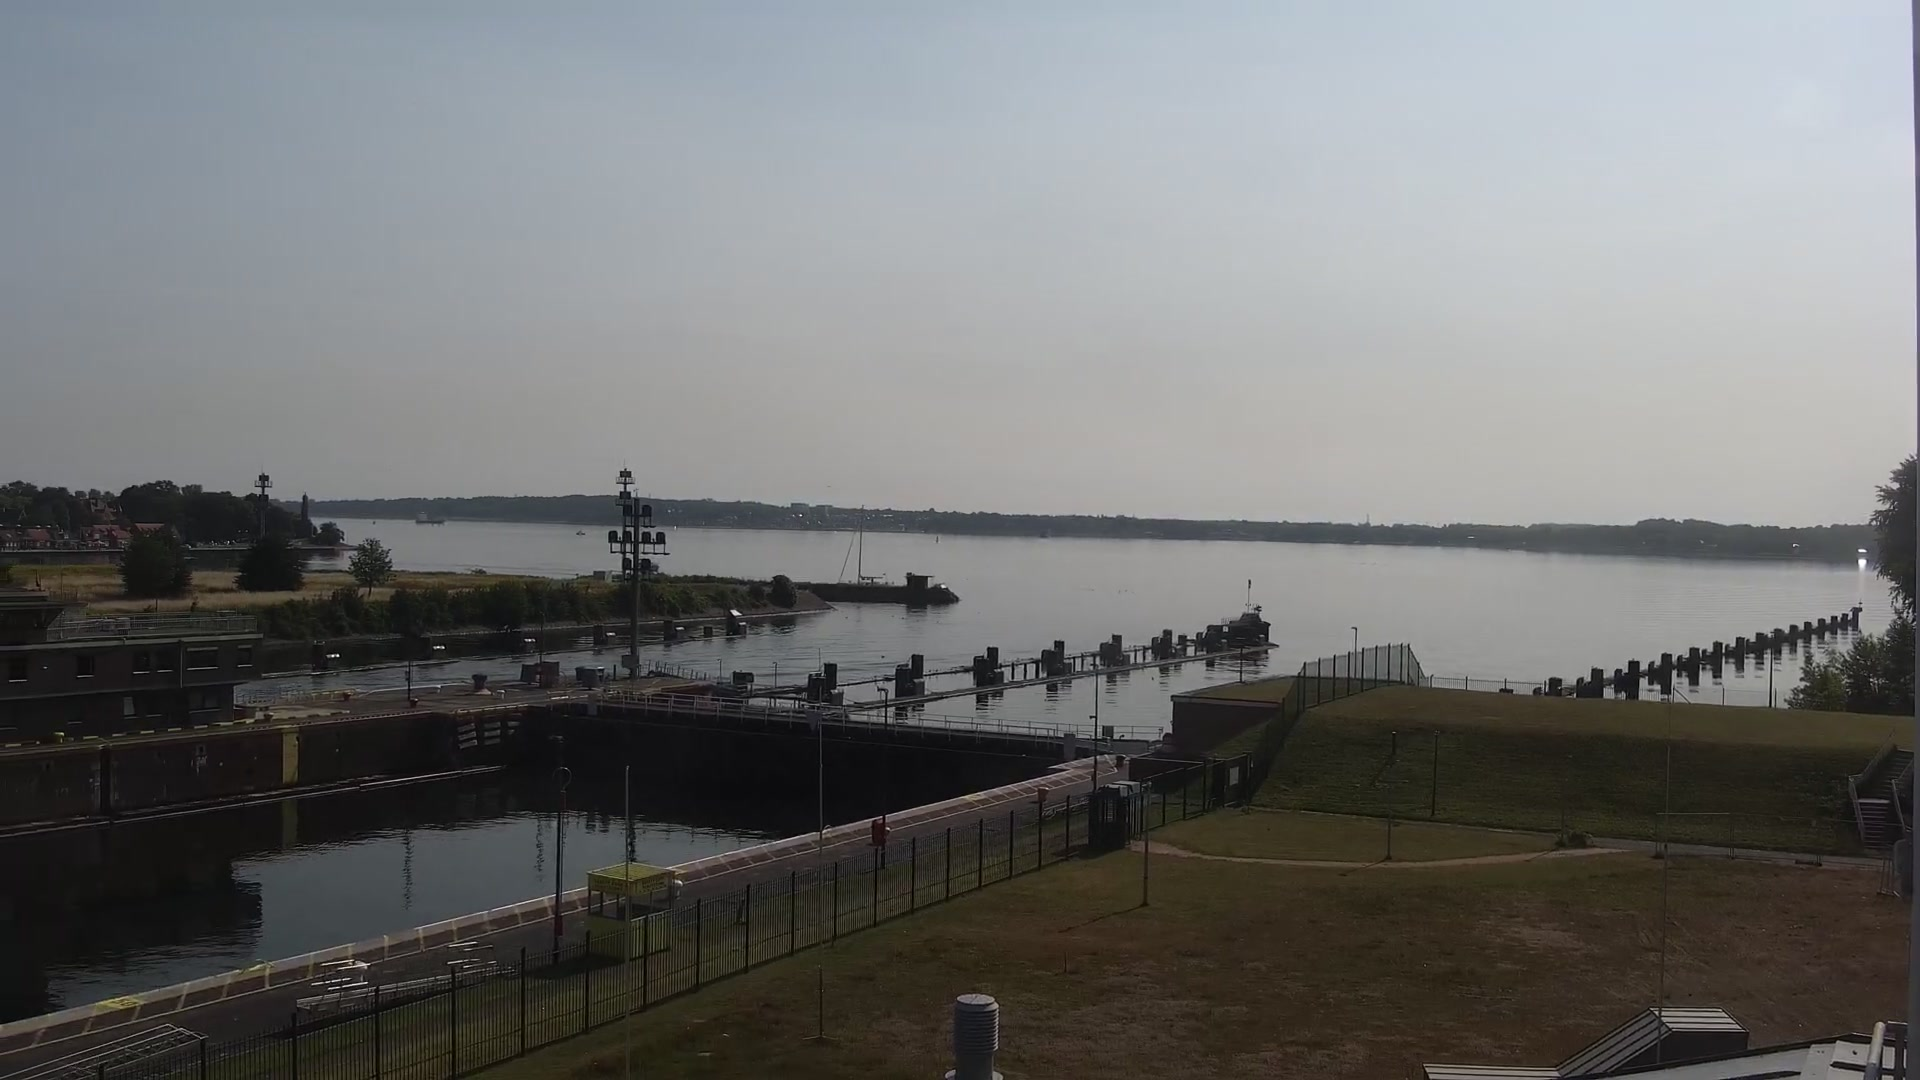sea: (836, 501, 894, 585), (415, 510, 447, 525), (575, 527, 585, 537)
